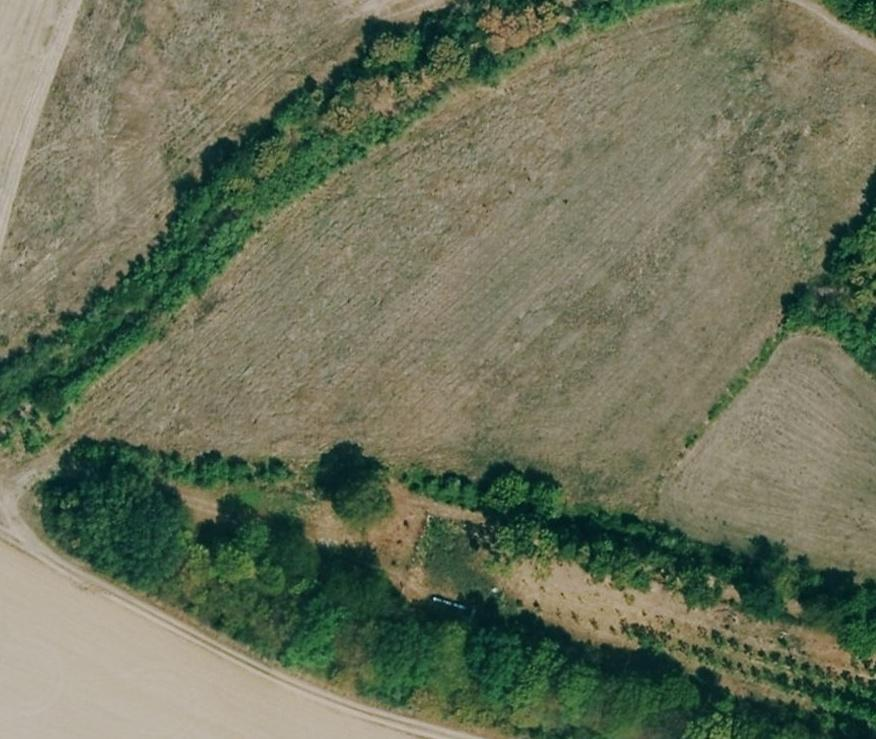field: (68, 3, 876, 514), (0, 0, 445, 355), (0, 480, 472, 737), (660, 335, 876, 577), (0, 0, 81, 252)
forest: (0, 0, 664, 435), (39, 440, 715, 737), (402, 464, 876, 658), (782, 171, 876, 376), (684, 669, 828, 738)
